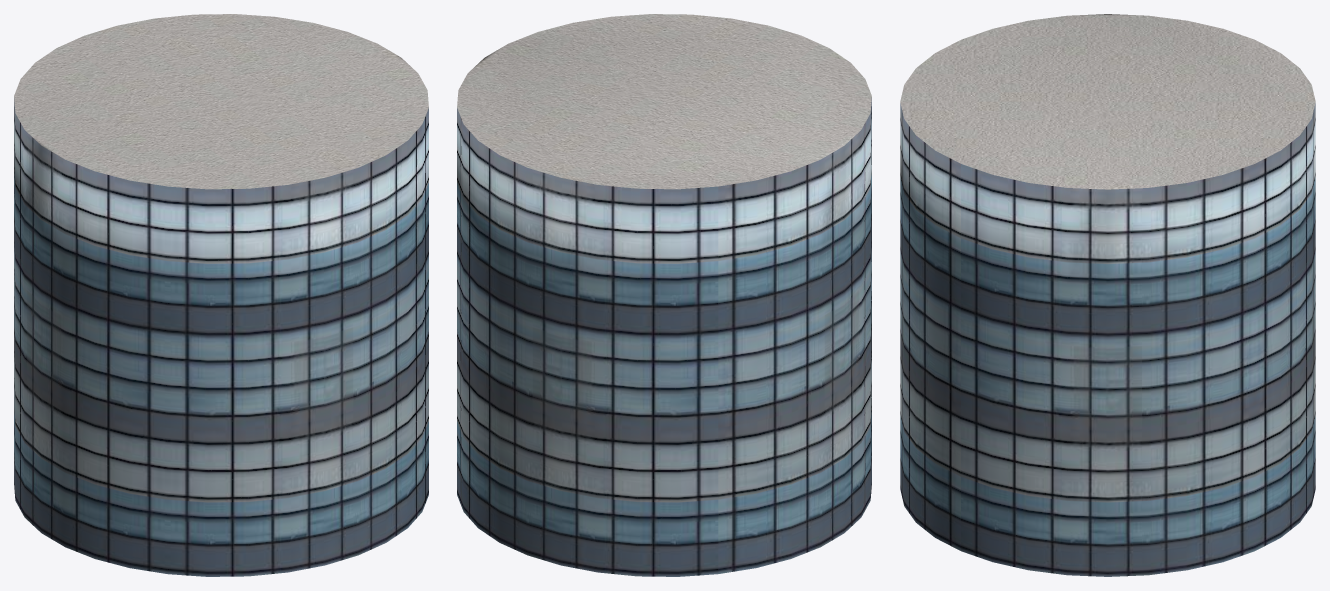
The model's file is office_7.glb.
The picture shows the model from 3 angles, left to right: view 1: azimuth 30°, elevation 25°; view 2: azimuth 150°, elevation 25°; view 3: azimuth 270°, elevation 25°; orthographic projection.
Parts seen in each view (by area): view 1: Plane.002; view 2: Plane.002; view 3: Plane.002.
Boxes of the visible parts, box(x1,y1,x2,y2) form: Plane.002: box(14, 14, 428, 576); Plane.002: box(457, 14, 871, 576); Plane.002: box(900, 14, 1315, 576).
Bounding box in the file's own units: 1750 × 1800 × 1750.
Materials: 2 (2 with a texture image).
